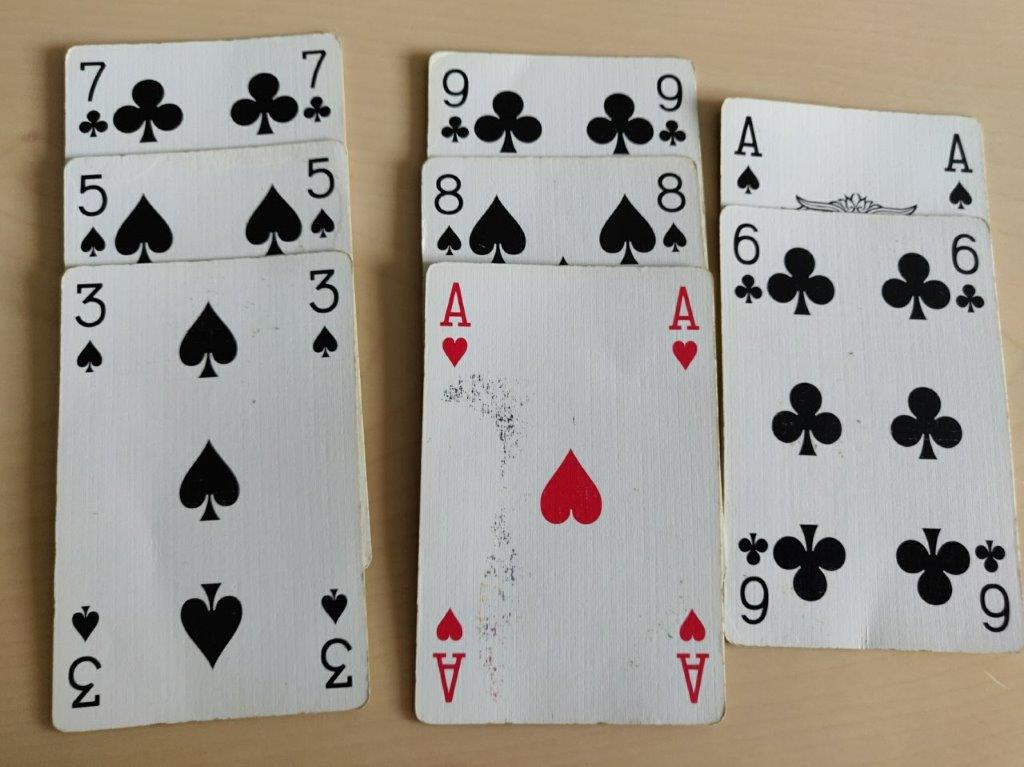3S: (65, 270, 116, 386), (303, 263, 345, 370)
5S: (73, 164, 115, 261), (301, 150, 343, 247)
6C: (727, 219, 766, 309), (948, 229, 987, 319)
7C: (67, 48, 113, 143), (293, 39, 339, 134)
8S: (428, 167, 468, 261), (653, 167, 693, 261)
9C: (434, 59, 474, 153), (653, 60, 693, 154)
AH: (428, 278, 475, 371), (664, 280, 711, 373)
AS: (728, 110, 764, 198), (940, 126, 976, 214)
